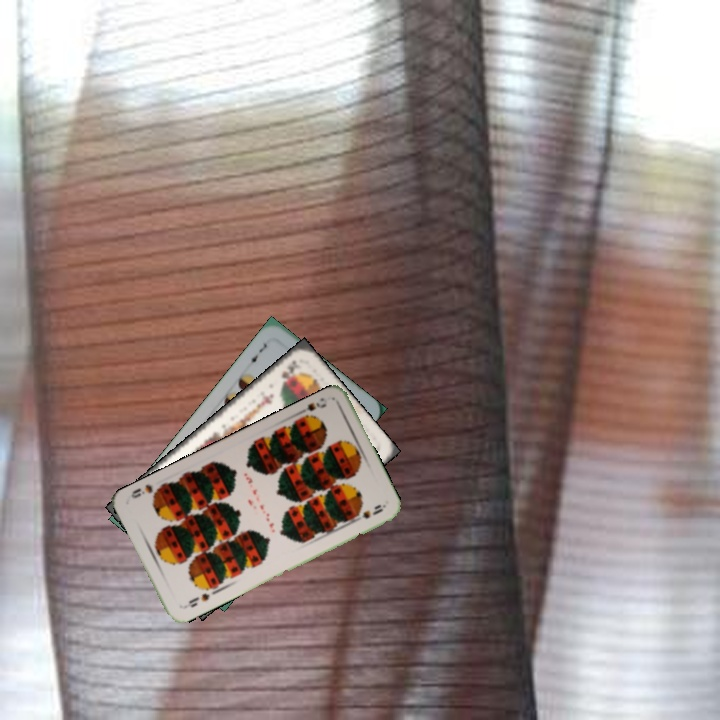E7: (244, 339, 270, 368)
S9: (294, 398, 329, 421), (184, 589, 212, 610)
SK: (277, 355, 303, 387)
